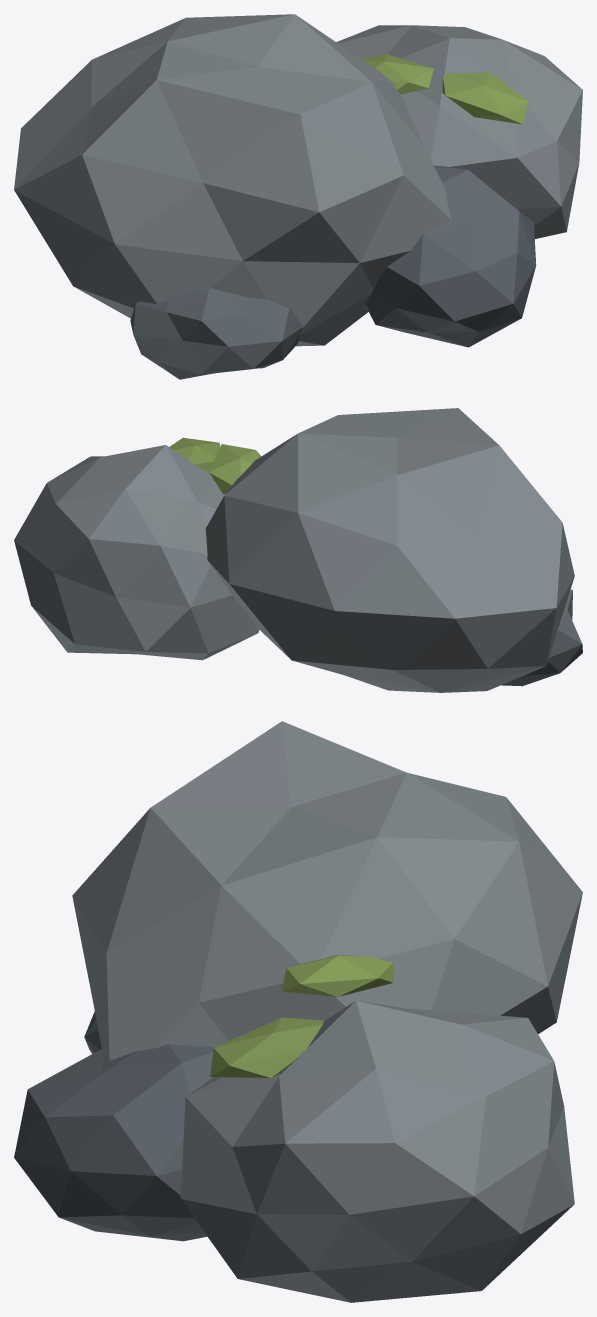
The model's file is mesh_boulder_cluster_a.glb.
The picture shows the model from 3 angles, top to bottom: view 1: azimuth 30°, elevation 25°; view 2: azimuth 150°, elevation 25°; view 3: azimuth 270°, elevation 25°; orthographic projection. The views are drawn at different scales.
Visible parts, largest first — view 1: mesh_boulder_cluster_a__stone, mesh_boulder_cluster_a__stone_dark, mesh_boulder_cluster_a__moss; view 2: mesh_boulder_cluster_a__stone, mesh_boulder_cluster_a__moss, mesh_boulder_cluster_a__stone_dark; view 3: mesh_boulder_cluster_a__stone, mesh_boulder_cluster_a__stone_dark, mesh_boulder_cluster_a__moss.
Boxes of the visible parts, x1,y1,x2,y2 form: mesh_boulder_cluster_a__stone: (14,14,582,346); mesh_boulder_cluster_a__stone_dark: (130,165,536,379); mesh_boulder_cluster_a__moss: (361,54,528,124); mesh_boulder_cluster_a__stone: (14,408,574,692); mesh_boulder_cluster_a__moss: (169,437,261,493); mesh_boulder_cluster_a__stone_dark: (501,589,582,686); mesh_boulder_cluster_a__stone: (72,721,582,1302); mesh_boulder_cluster_a__stone_dark: (14,1011,214,1241); mesh_boulder_cluster_a__moss: (210,955,394,1077).
Size of the model in its own units: 8.35 by 4.18 by 5.85.
